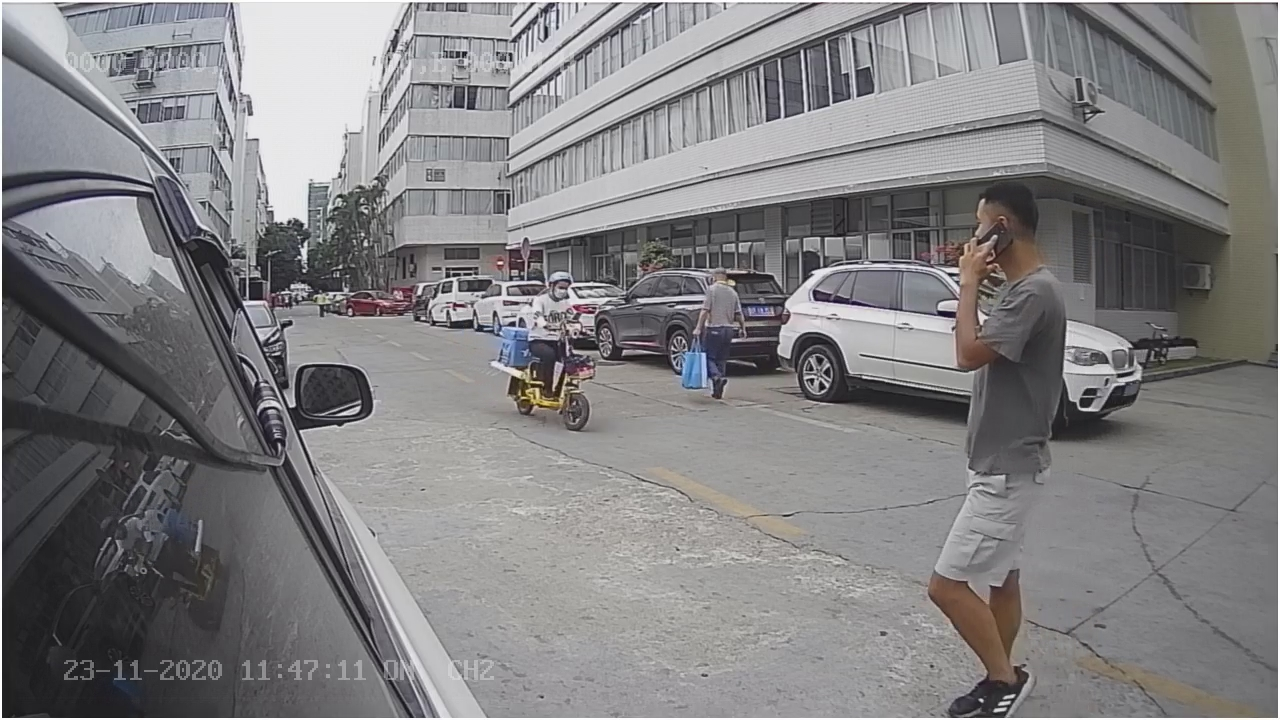person: (926, 167, 1063, 719)
